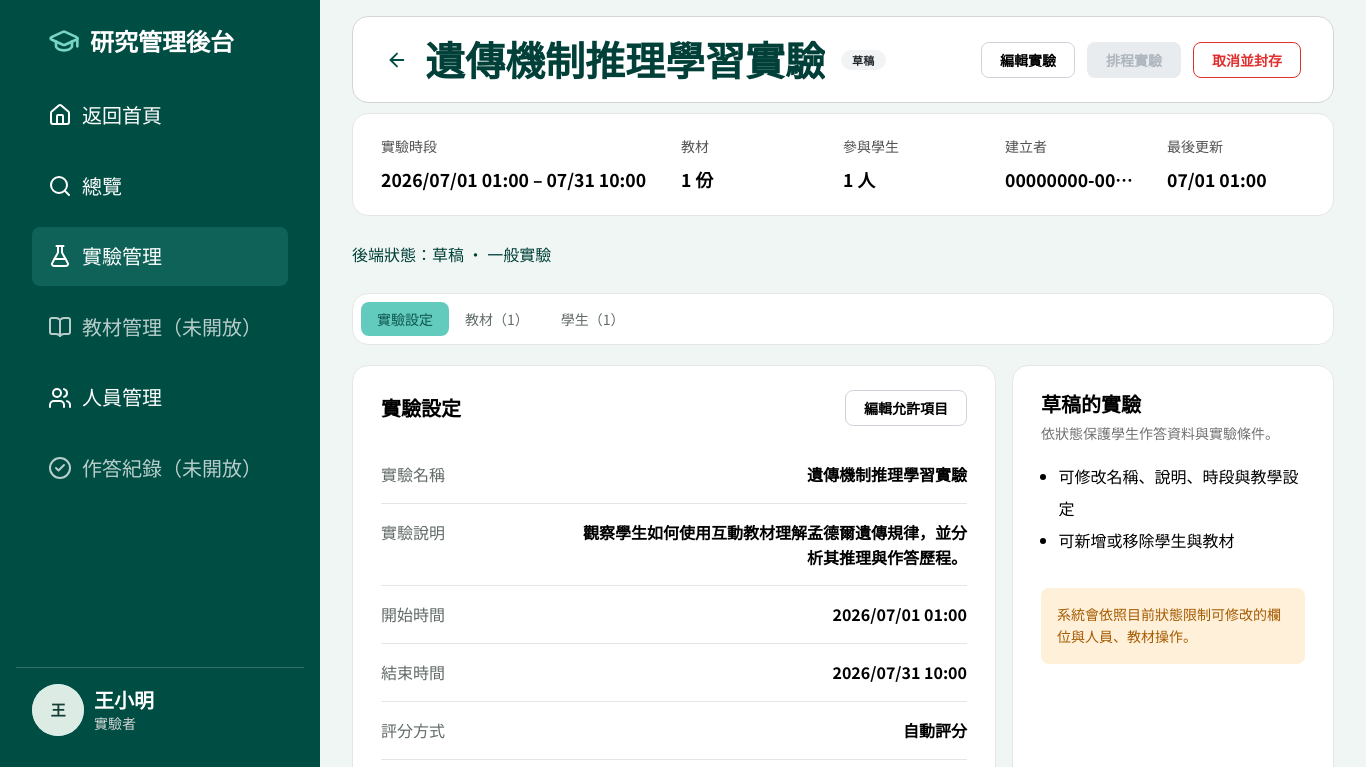
Scenario: experiment archive UI › provides DRAFT archive and retains read-only detail
This screenshot has width=1366, height=767.
Click the button "取消並封存".
click(1247, 60)  # box [1193, 42, 1301, 78]
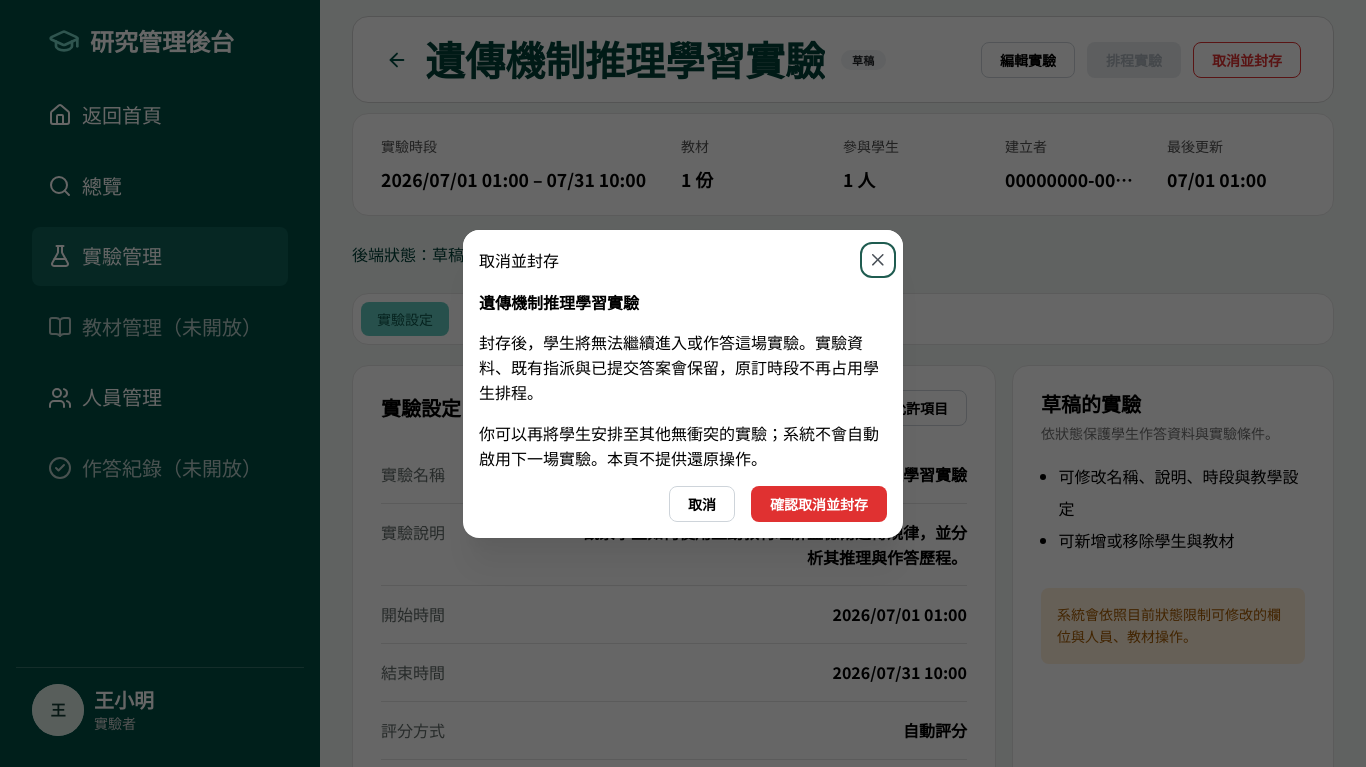
Expected: the text "遺傳機制推理學習實驗" is shown, [479, 290, 639, 314]
Expected: the text "封存後，學生將無法繼續進入或作答這場實驗。實驗資料、既有指派與已提交答案會保留，原訂時段不再占用學生排程。" is shown, [479, 330, 887, 405]
Click the 3rd button.
click(819, 504)  # box [751, 486, 887, 522]
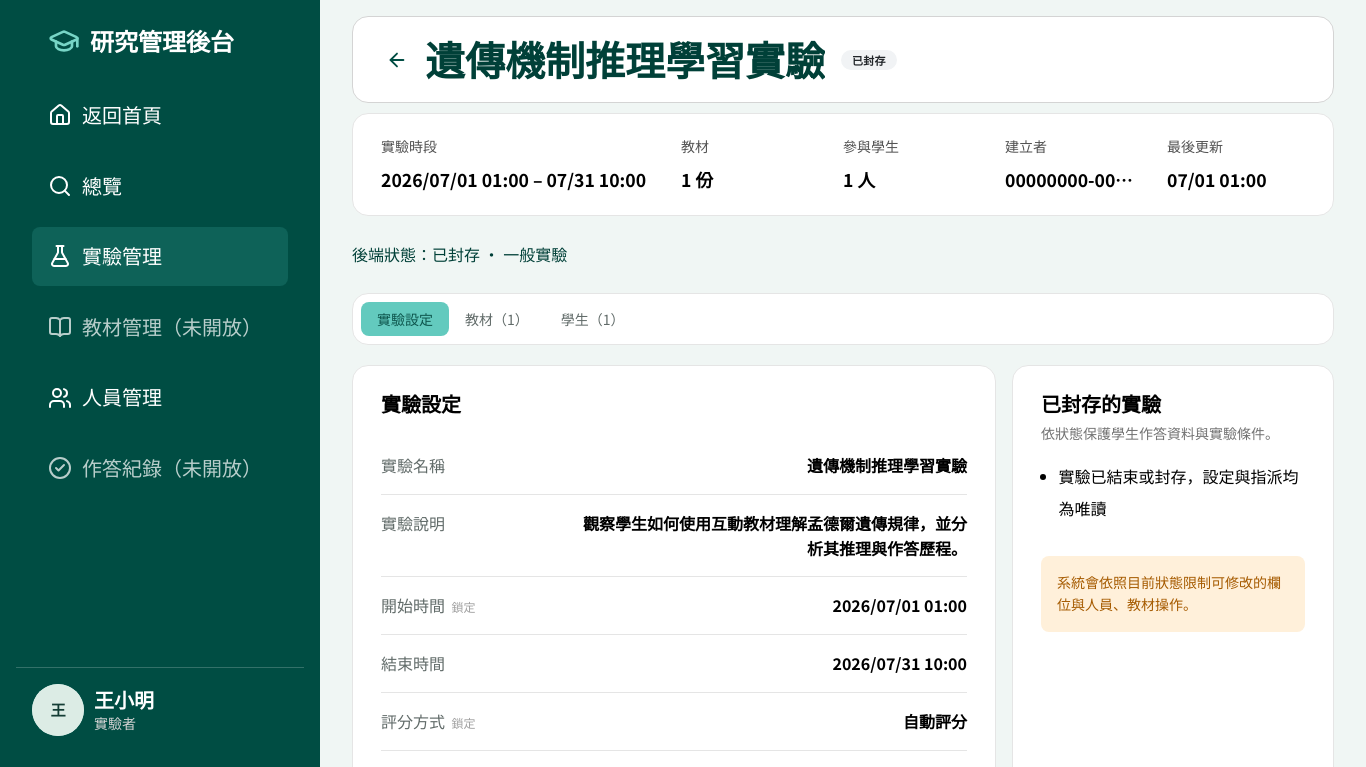
Expected: the dialog is gone
Expected: the list item "實驗已結束或封存，設定與指派均為唯讀" is shown, [1059, 460, 1305, 524]
Expected: the button "取消並封存" is gone
